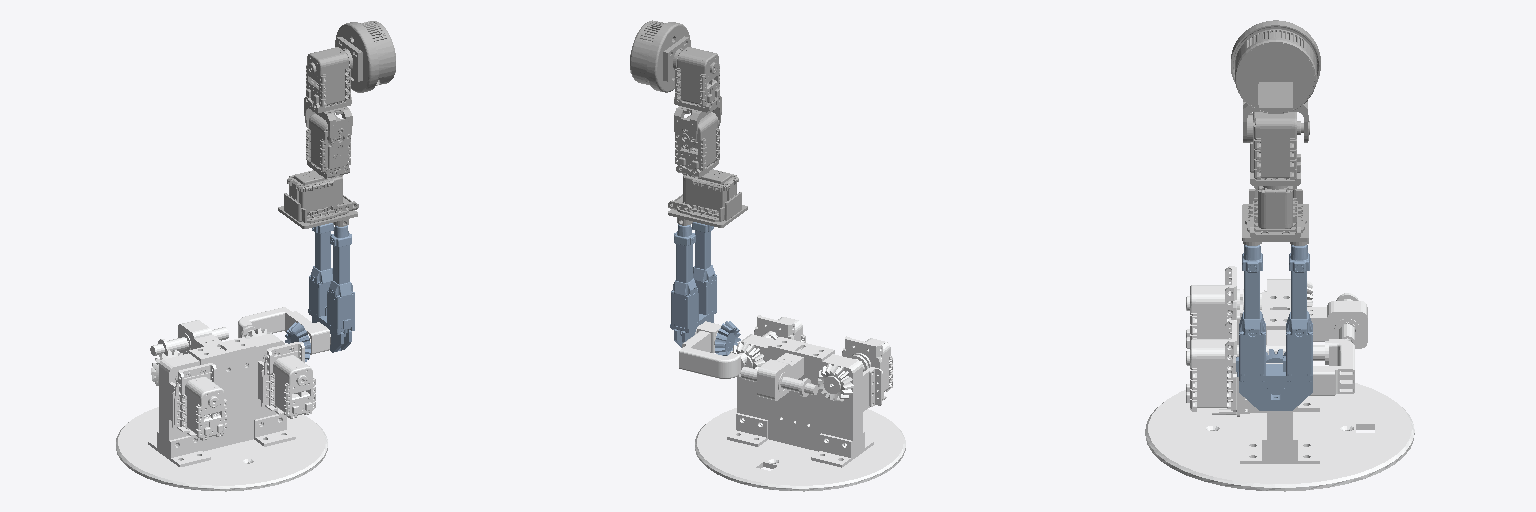
The robot description file, URDF, robot "DtachableHead_L515_urdf":
<?xml version="1.0" encoding="utf-8" ?>
<!-- This URDF was automatically created by SolidWorks to URDF Exporter! Originally created by [author] ([email redacted]) 
     Commit Version: 1.6.0-4-g7f85cfe  Build Version: 1.6.7995.38578
     For more information, please see http://wiki.ros.org/sw_urdf_exporter -->
<robot name="DtachableHead_L515_urdf">
    <link name="base_link">
        <inertial>
            <origin xyz="-0.00378705872197654 -1.12430408973745E-07 0.0404723424148772" rpy="0 0 0" />
            <mass value="1.33352708603508" />
            <inertia ixx="0.00255885714096112" ixy="1.96132060594249E-08" ixz="2.4778354620386E-05" iyy="0.00160628007071275" iyz="4.277821651983E-11" izz="0.00323003628685936" />
        </inertial>
        <visual>
            <origin xyz="0 0 0" rpy="0 0 0" />
            <geometry>
                <mesh filename="package://DtachableHead_L515_urdf/meshes/base_link.STL" />
            </geometry>
            <material name="">
                <color rgba="0.992156862745098 0.996078431372549 1 1" />
            </material>
        </visual>
        <collision>
            <origin xyz="0 0 0" rpy="0 0 0" />
            <geometry>
                <mesh filename="package://DtachableHead_L515_urdf/meshes/base_link.STL" />
            </geometry>
        </collision>
    </link>
    <link name="link1">
        <inertial>
            <origin xyz="-0.0263492134398793 1.15076095874578E-09 0.00896811669267984" rpy="0 0 0" />
            <mass value="0.0900859355154709" />
            <inertia ixx="2.38555181539995E-05" ixy="-2.61151900628118E-12" ixz="-5.05580281755113E-07" iyy="2.83133170372513E-05" iyz="-2.64774143718768E-12" izz="1.01465472884177E-05" />
        </inertial>
        <visual>
            <origin xyz="0 0 0" rpy="0 0 0" />
            <geometry>
                <mesh filename="package://DtachableHead_L515_urdf/meshes/link1.STL" />
            </geometry>
            <material name="">
                <color rgba="0.992156862745098 0.996078431372549 1 1" />
            </material>
        </visual>
        <collision>
            <origin xyz="0 0 0" rpy="0 0 0" />
            <geometry>
                <mesh filename="package://DtachableHead_L515_urdf/meshes/link1.STL" />
            </geometry>
        </collision>
    </link>
    <joint name="Joint1" type="continuous">
        <origin xyz="0.05 0.03605 0.09" rpy="-1.5708 0 3.1416" />
        <parent link="base_link" />
        <child link="link1" />
        <axis xyz="0 0 -1" />
    </joint>
    <link name="link2">
        <inertial>
            <origin xyz="-8.59473547410558E-05 0.0333703173432442 0.0378139786332737" rpy="0 0 0" />
            <mass value="0.0584392840748909" />
            <inertia ixx="3.52271531477453E-05" ixy="-1.68213182012101E-08" ixz="1.04005727485412E-10" iyy="6.11409911614445E-06" iyz="-2.84942691049761E-08" izz="3.75170920290425E-05" />
        </inertial>
        <visual>
            <origin xyz="0 0 0" rpy="0 0 0" />
            <geometry>
                <mesh filename="package://DtachableHead_L515_urdf/meshes/link2.STL" />
            </geometry>
            <material name="">
                <color rgba="0.63921568627451 0.717647058823529 0.807843137254902 1" />
            </material>
        </visual>
        <collision>
            <origin xyz="0 0 0" rpy="0 0 0" />
            <geometry>
                <mesh filename="package://DtachableHead_L515_urdf/meshes/link2.STL" />
            </geometry>
        </collision>
    </link>
    <joint name="Joint2" type="continuous">
        <origin xyz="-0.0282 0 0.039" rpy="3.1416 1.5708 0" />
        <parent link="link1" />
        <child link="link2" />
        <axis xyz="0 0 -1" />
    </joint>
    <link name="link3">
        <inertial>
            <origin xyz="-0.0146463682611959 0.0173897450317781 0.0937138975940381" rpy="0 0 0" />
            <mass value="0.0641772995232878" />
            <inertia ixx="1.382263957823E-05" ixy="7.79143345245861E-10" ixz="5.20726146904098E-07" iyy="2.15199698677104E-05" iyz="-2.08004004845423E-09" izz="1.99503652179627E-05" />
        </inertial>
        <visual>
            <origin xyz="0 0 0" rpy="0 0 0" />
            <geometry>
                <mesh filename="package://DtachableHead_L515_urdf/meshes/link3.STL" />
            </geometry>
            <material name="">
                <color rgba="0.749019607843137 0.749019607843137 0.749019607843137 1" />
            </material>
        </visual>
        <collision>
            <origin xyz="0 0 0" rpy="0 0 0" />
            <geometry>
                <mesh filename="package://DtachableHead_L515_urdf/meshes/link3.STL" />
            </geometry>
        </collision>
    </link>
    <joint name="Joint3" type="prismatic">
        <origin xyz="-0.0177 0.048825 0.039731" rpy="-1.5708 -1.5708 0" />
        <parent link="link2" />
        <child link="link3" />
        <axis xyz="0 0 1" />
        <limit lower="0" upper="1" effort="0" velocity="0" />
    </joint>
    <link name="link4">
        <inertial>
            <origin xyz="-3.82371535365134E-07 0.00093572074835963 0.0269255380523478" rpy="0 0 0" />
            <mass value="0.0459058944272894" />
            <inertia ixx="1.19651028279709E-05" ixy="-2.05380078033368E-09" ixz="8.7883667953777E-10" iyy="1.01806974816011E-05" iyz="1.9075980723656E-07" izz="6.93671072761149E-06" />
        </inertial>
        <visual>
            <origin xyz="0 0 0" rpy="0 0 0" />
            <geometry>
                <mesh filename="package://DtachableHead_L515_urdf/meshes/link4.STL" />
            </geometry>
            <material name="">
                <color rgba="0.752941176470588 0.752941176470588 0.752941176470588 1" />
            </material>
        </visual>
        <collision>
            <origin xyz="0 0 0" rpy="0 0 0" />
            <geometry>
                <mesh filename="package://DtachableHead_L515_urdf/meshes/link4.STL" />
            </geometry>
        </collision>
    </link>
    <joint name="Joint4" type="continuous">
        <origin xyz="-0.0040276 0.017355 0.12394" rpy="0 0 3.1416" />
        <parent link="link3" />
        <child link="link4" />
        <axis xyz="0 0 -1" />
    </joint>
    <link name="link5">
        <inertial>
            <origin xyz="-0.000803920143952253 0.0475101844429556 0.0241069726612631" rpy="0 0 0" />
            <mass value="0.0534527693057467" />
            <inertia ixx="1.34189740178842E-05" ixy="-1.90602870922949E-07" ixz="-2.0538007681724E-09" iyy="9.81599697249157E-06" iyz="-8.78836679583429E-10" izz="1.3194019796845E-05" />
        </inertial>
        <visual>
            <origin xyz="0 0 0" rpy="0 0 0" />
            <geometry>
                <mesh filename="package://DtachableHead_L515_urdf/meshes/link5.STL" />
            </geometry>
            <material name="">
                <color rgba="0.749019607843137 0.749019607843137 0.749019607843137 1" />
            </material>
        </visual>
        <collision>
            <origin xyz="0 0 0" rpy="0 0 0" />
            <geometry>
                <mesh filename="package://DtachableHead_L515_urdf/meshes/link5.STL" />
            </geometry>
        </collision>
    </link>
    <joint name="Joint5" type="continuous">
        <origin xyz="0 0.02394 0.0415" rpy="1.5708 0 0" />
        <parent link="link4" />
        <child link="link5" />
        <axis xyz="0 0 -1" />
    </joint>
    <link name="link6">
        <inertial>
            <origin xyz="-0.000282074745304408 -9.82032700646007E-05 -0.0163950536719081" rpy="0 0 0" />
            <mass value="0.0756232875328255" />
            <inertia ixx="1.84246346851207E-05" ixy="-1.73776102578307E-07" ixz="-3.4518504622754E-08" iyy="2.01155454456788E-05" iyz="2.85573257776937E-08" izz="3.5373422200142E-05" />
        </inertial>
        <visual>
            <origin xyz="0 0 0" rpy="0 0 0" />
            <geometry>
                <mesh filename="package://DtachableHead_L515_urdf/meshes/link6.STL" />
            </geometry>
            <material name="">
                <color rgba="0.749019607843137 0.749019607843137 0.749019607843137 1" />
            </material>
        </visual>
        <collision>
            <origin xyz="0 0 0" rpy="0 0 0" />
            <geometry>
                <mesh filename="package://DtachableHead_L515_urdf/meshes/link6.STL" />
            </geometry>
        </collision>
    </link>
    <joint name="Joint6" type="continuous">
        <origin xyz="-0.02094 0.0675 0.024" rpy="0 1.5708 0" />
        <parent link="link5" />
        <child link="link6" />
        <axis xyz="0 0 -1" />
    </joint>
    <link name="tcp">
        <inertial>
            <origin xyz="0.0116751747094236 4.62453819594869E-07 0.000399475584139108" rpy="0 0 0" />
            <mass value="0.00297971614718034" />
            <inertia ixx="1.63630707009726E-07" ixy="-9.13749372308326E-13" ixz="-1.04376536870856E-09" iyy="9.61258226609408E-08" iyz="2.21339270591125E-12" izz="1.28532104668591E-07" />
        </inertial>
        <visual>
            <origin xyz="0 0 0" rpy="0 0 0" />
            <geometry>
                <mesh filename="package://DtachableHead_L515_urdf/meshes/tcp.STL" />
            </geometry>
            <material name="">
                <color rgba="1 1 1 1" />
            </material>
        </visual>
        <collision>
            <origin xyz="0 0 0" rpy="0 0 0" />
            <geometry>
                <mesh filename="package://DtachableHead_L515_urdf/meshes/tcp.STL" />
            </geometry>
        </collision>
    </link>
    <joint name="joint7" type="fixed">
        <origin xyz="-0.00010025 -0.0089999 -0.029479" rpy="1.5708 1.5708 0" />
        <parent link="link6" />
        <child link="tcp" />
        <axis xyz="0 0 0" />
    </joint>
    <transmission name="trans_Joint1">
        <type>transmission_interface/SimpleTransmission</type>
        <joint name="Joint1">
            <hardwareInterface>hardware_interface/EffortJointInterface</hardwareInterface>
        </joint>
        <actuator name="Joint1_motor">
            <hardwareInterface>hardware_interface/EffortJointInterface</hardwareInterface>
            <mechanicalReduction>1</mechanicalReduction>
        </actuator>
    </transmission>
    <transmission name="trans_Joint2">
        <type>transmission_interface/SimpleTransmission</type>
        <joint name="Joint2">
            <hardwareInterface>hardware_interface/EffortJointInterface</hardwareInterface>
        </joint>
        <actuator name="Joint2_motor">
            <hardwareInterface>hardware_interface/EffortJointInterface</hardwareInterface>
            <mechanicalReduction>1</mechanicalReduction>
        </actuator>
    </transmission>
    <transmission name="trans_Joint3">
        <type>transmission_interface/SimpleTransmission</type>
        <joint name="Joint3">
            <hardwareInterface>hardware_interface/EffortJointInterface</hardwareInterface>
        </joint>
        <actuator name="Joint3_motor">
            <hardwareInterface>hardware_interface/EffortJointInterface</hardwareInterface>
            <mechanicalReduction>1</mechanicalReduction>
        </actuator>
    </transmission>
    <transmission name="trans_Joint4">
        <type>transmission_interface/SimpleTransmission</type>
        <joint name="Joint4">
            <hardwareInterface>hardware_interface/EffortJointInterface</hardwareInterface>
        </joint>
        <actuator name="Joint4_motor">
            <hardwareInterface>hardware_interface/EffortJointInterface</hardwareInterface>
            <mechanicalReduction>1</mechanicalReduction>
        </actuator>
    </transmission>
    <transmission name="trans_Joint5">
        <type>transmission_interface/SimpleTransmission</type>
        <joint name="Joint5">
            <hardwareInterface>hardware_interface/EffortJointInterface</hardwareInterface>
        </joint>
        <actuator name="Joint5_motor">
            <hardwareInterface>hardware_interface/EffortJointInterface</hardwareInterface>
            <mechanicalReduction>1</mechanicalReduction>
        </actuator>
    </transmission>
    <transmission name="trans_Joint6">
        <type>transmission_interface/SimpleTransmission</type>
        <joint name="Joint6">
            <hardwareInterface>hardware_interface/EffortJointInterface</hardwareInterface>
        </joint>
        <actuator name="Joint6_motor">
            <hardwareInterface>hardware_interface/EffortJointInterface</hardwareInterface>
            <mechanicalReduction>1</mechanicalReduction>
        </actuator>
    </transmission>
    <gazebo>
        <plugin name="gazebo_ros_control">
            <robotNamespace>/</robotNamespace>
        </plugin>
    </gazebo>
</robot>

--- Facts derived from the render (not from the file) ---
Views: 3 orthographic renders of the robot side by side, from view 1: azimuth 30°, elevation 25°; view 2: azimuth 150°, elevation 25°; view 3: azimuth 270°, elevation 25°.
Robot: DtachableHead_L515_urdf — 8 links, 7 joints (5 continuous, 1 prismatic, 1 fixed); root link base_link; default pose: all joints at 0.
Links seen in each view (by area): view 1: base_link, link2, link5, link3, link6, link4, link1; view 2: base_link, link2, link5, link3, link6, link1, link4; view 3: base_link, link2, link6, link4, link3, link1, tcp.
Boxes of the visible links, box(x1,y1,x2,y2) form: base_link: box(116, 320, 327, 491); link2: box(285, 223, 354, 361); link5: box(304, 47, 352, 149); link3: box(278, 170, 358, 228); link6: box(335, 21, 395, 92); link4: box(306, 114, 350, 178); link1: box(238, 307, 330, 357); base_link: box(695, 315, 905, 491); link2: box(670, 222, 740, 355); link5: box(673, 47, 721, 148); link3: box(668, 169, 747, 227); link6: box(630, 20, 690, 92); link1: box(679, 321, 776, 378); link4: box(675, 112, 719, 177); base_link: box(1145, 266, 1414, 491); link2: box(1236, 245, 1312, 410); link6: box(1231, 20, 1320, 113); link4: box(1247, 112, 1300, 185); link3: box(1242, 186, 1308, 245); link1: box(1237, 339, 1354, 395); tcp: box(1258, 82, 1292, 107).
Size in the robot's own frame: 0.2801 by 0.2 by 0.4052 metres.
Meshes: 8 distinct files referenced, 8 mesh visuals loaded (8 binary STL).